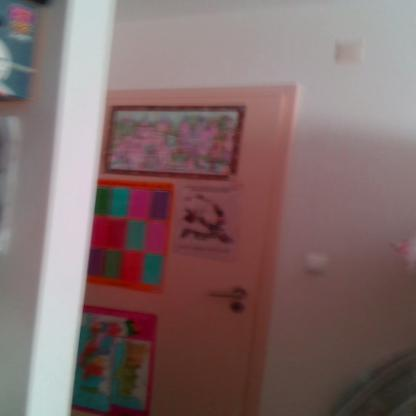door: (86, 92, 274, 416)
lever: (206, 289, 246, 299)
